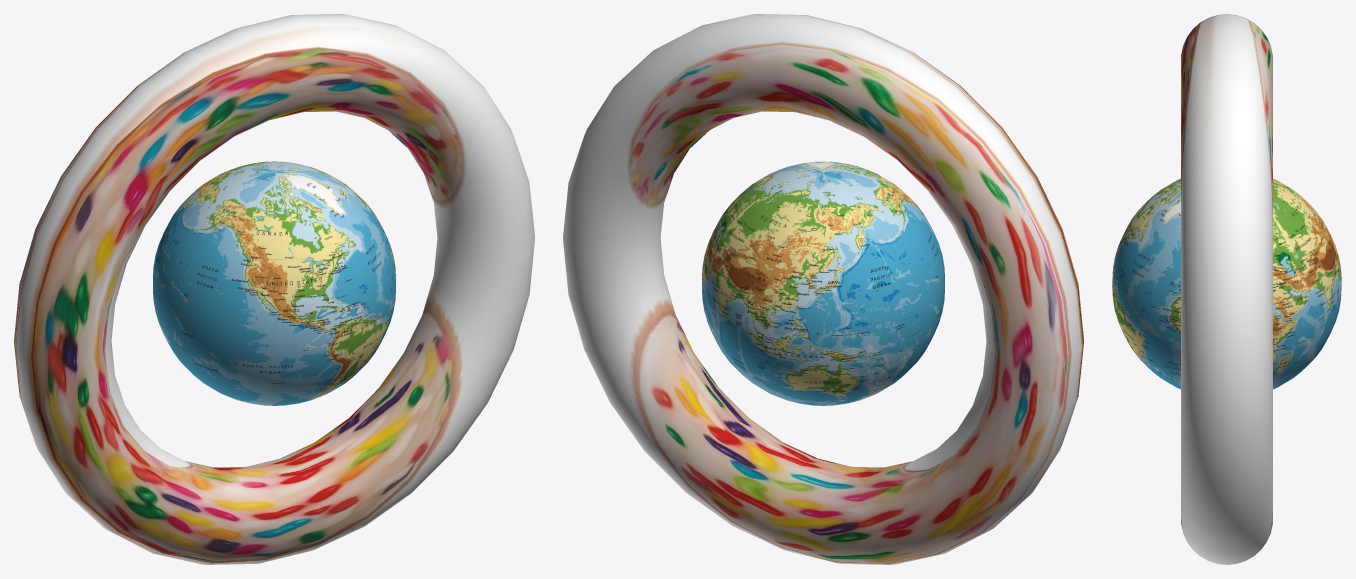
The model's file is swiat.gltf.
The picture shows the model from 3 angles, left to right: view 1: azimuth 30°, elevation 25°; view 2: azimuth 150°, elevation 25°; view 3: azimuth 270°, elevation 25°; orthographic projection. The views are drawn at different scales.
Parts seen in each view (by area): view 1: Torus, Sphere; view 2: Torus, Sphere; view 3: Torus, Sphere.
Boxes of the visible parts, x1,y1,x2,y2 form: Torus: (14, 14, 534, 564); Sphere: (153, 161, 395, 405); Torus: (563, 14, 1083, 564); Sphere: (702, 161, 944, 405); Torus: (1181, 14, 1272, 564); Sphere: (1112, 178, 1341, 389).
Size of the model in its own units: 4.8 by 4.77 by 1.99.
Materials: 2 (2 with a texture image).
